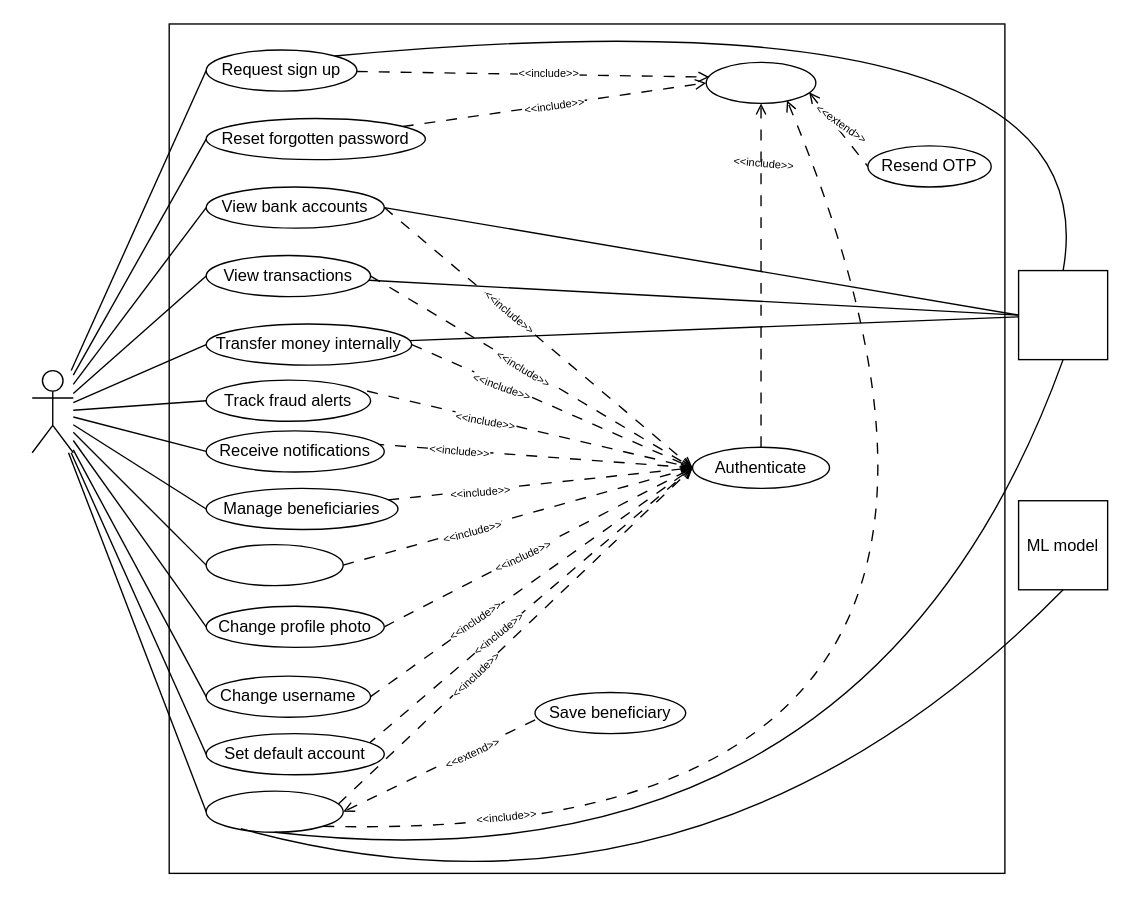
This 1132x897 diagram has some shape labels left out. Here are the shapes that lost their labels. From the top down, the centre of each, then its label:
the point at 760,82: Verify OTP
the point at 1062,314: Centralized CBS
the point at 52,411: Client
the point at 274,564: Reset password
the point at 274,811: Send money
